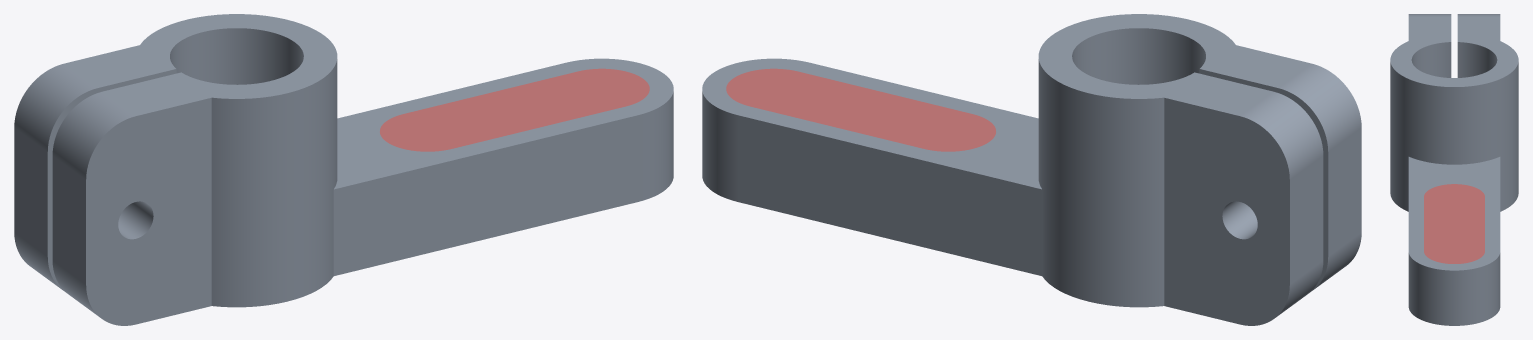
The model's file is step_07.glb.
The picture shows the model from 3 angles, left to right: view 1: azimuth 30°, elevation 25°; view 2: azimuth 150°, elevation 25°; view 3: azimuth 270°, elevation 25°; orthographic projection. The views are drawn at different scales.
Visible parts, largest first — view 1: part__split clamp lever, removed__split clamp lever; view 2: part__split clamp lever, removed__split clamp lever; view 3: part__split clamp lever, removed__split clamp lever.
Boxes of the visible parts, <box> form: part__split clamp lever: <box>14,14,673,325</box>; removed__split clamp lever: <box>380,68,649,151</box>; part__split clamp lever: <box>702,14,1361,325</box>; removed__split clamp lever: <box>726,68,995,151</box>; part__split clamp lever: <box>1390,14,1518,325</box>; removed__split clamp lever: <box>1424,184,1484,263</box>.
Bounding box in the file's own units: 148 × 48 × 42.
